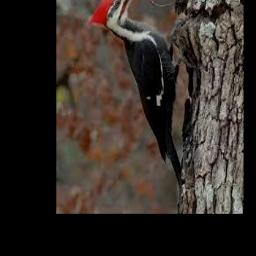Woodpecker: (88, 0, 183, 197)
